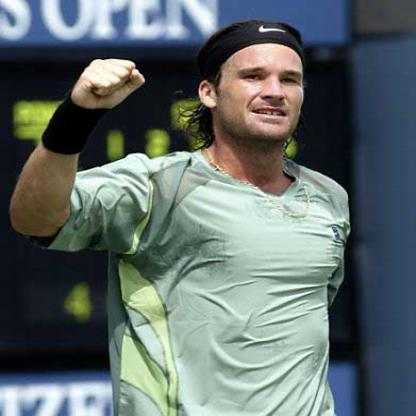face: (213, 22, 311, 142)
